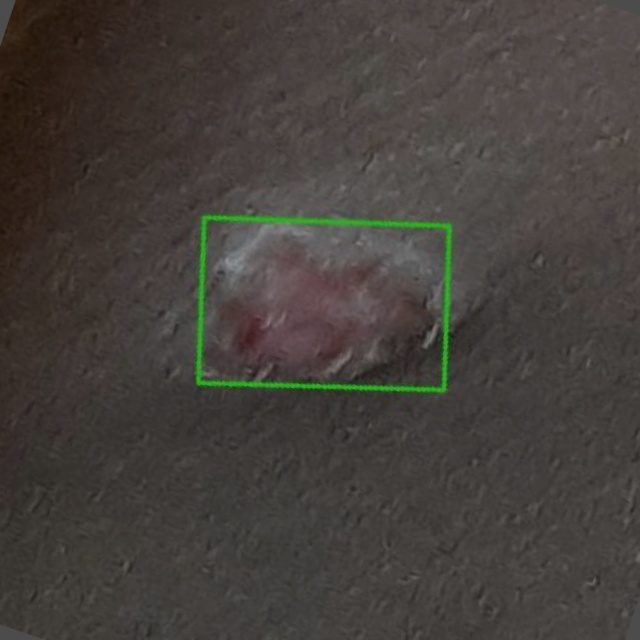Eczema: (197, 218, 448, 390)
